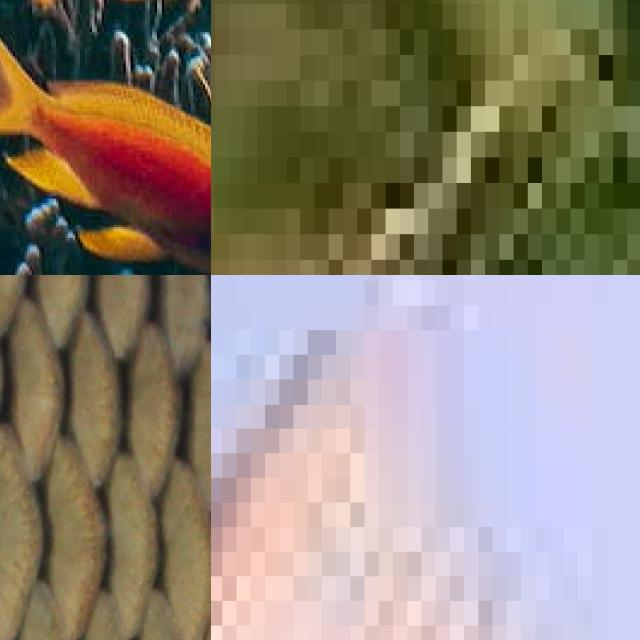fish: (0, 0, 211, 275)
